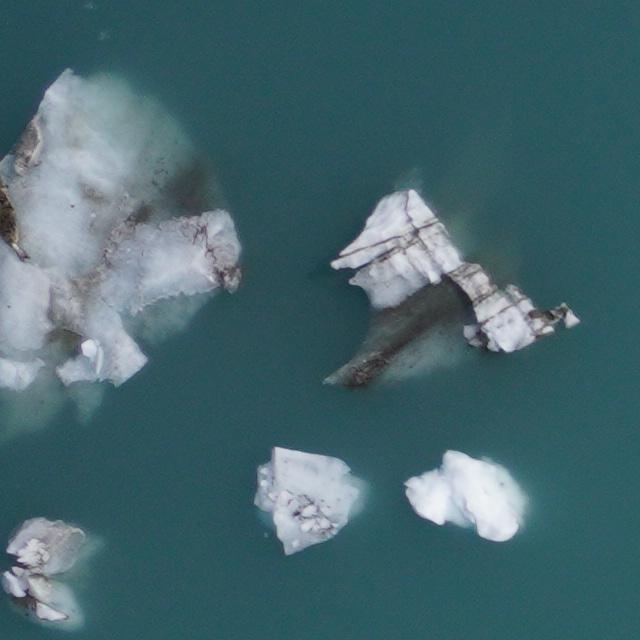seal: (0, 178, 30, 260)
